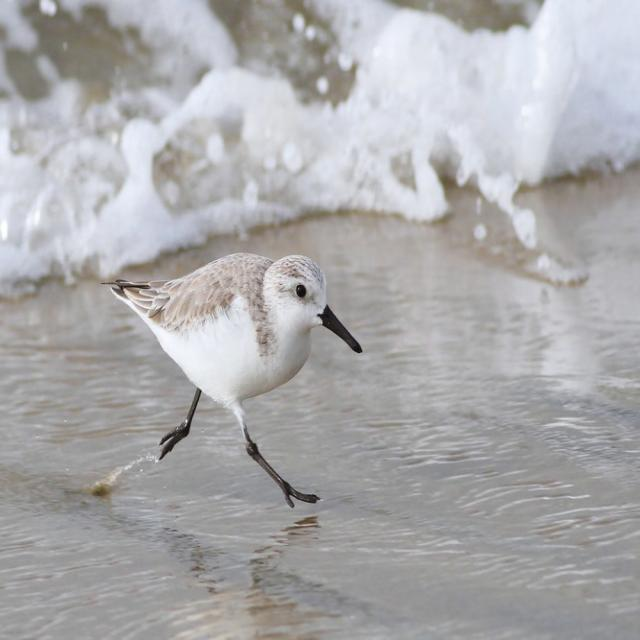sandpiper: (104, 253, 362, 507)
